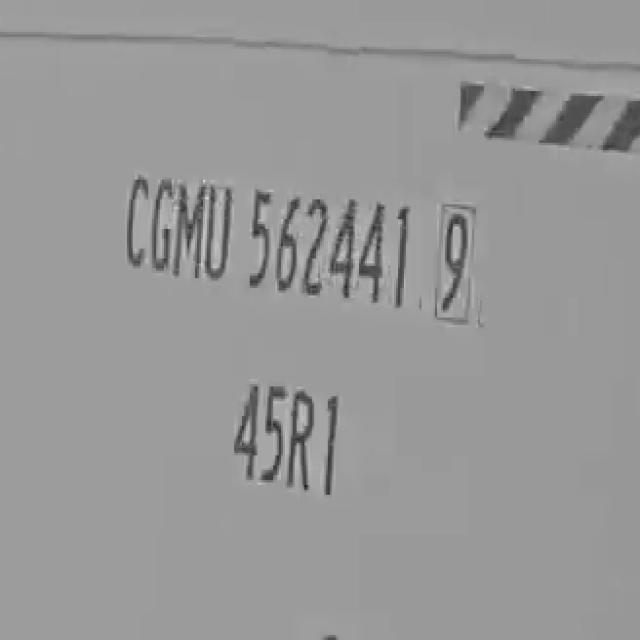dv: (434, 194, 490, 329)
owner: (115, 150, 232, 290)
serial: (242, 175, 418, 319)
size: (208, 364, 364, 501)
